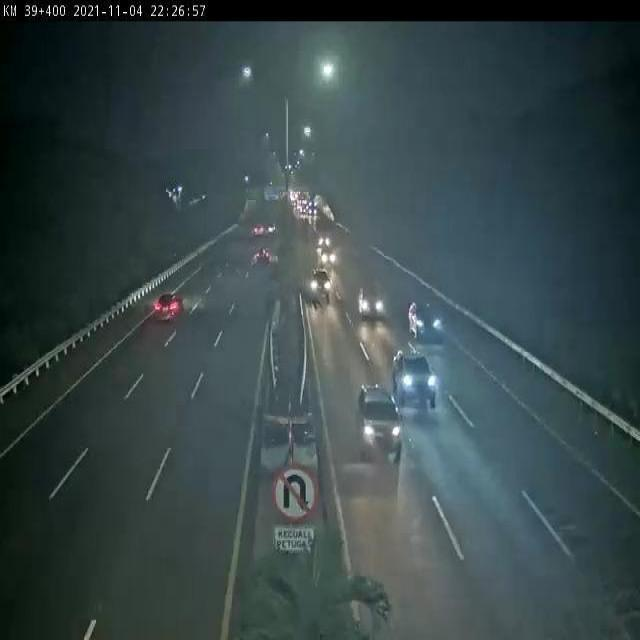car: (355, 383, 405, 459), (392, 348, 437, 408), (407, 297, 444, 340), (357, 283, 386, 317), (153, 290, 183, 322), (308, 265, 332, 299)
